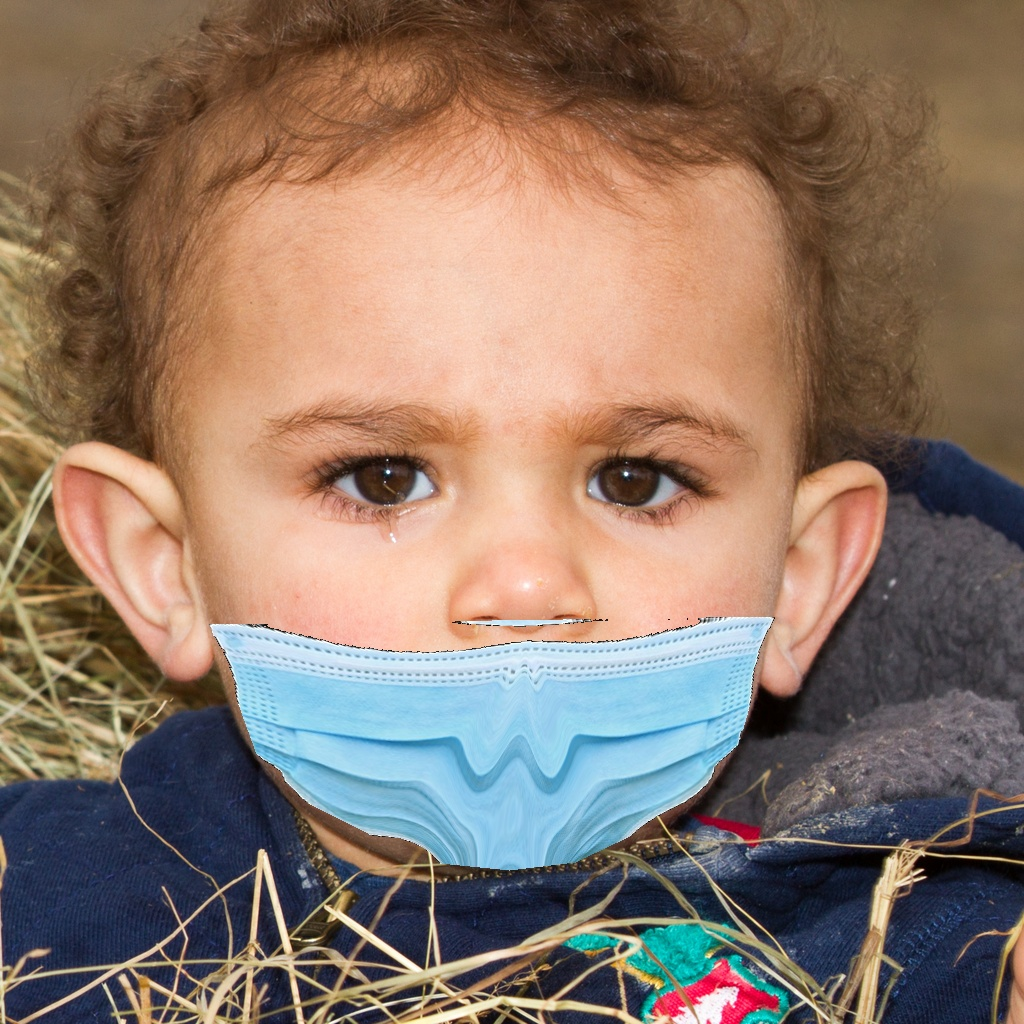mask_weared_incorrect: (185, 367, 804, 894)
